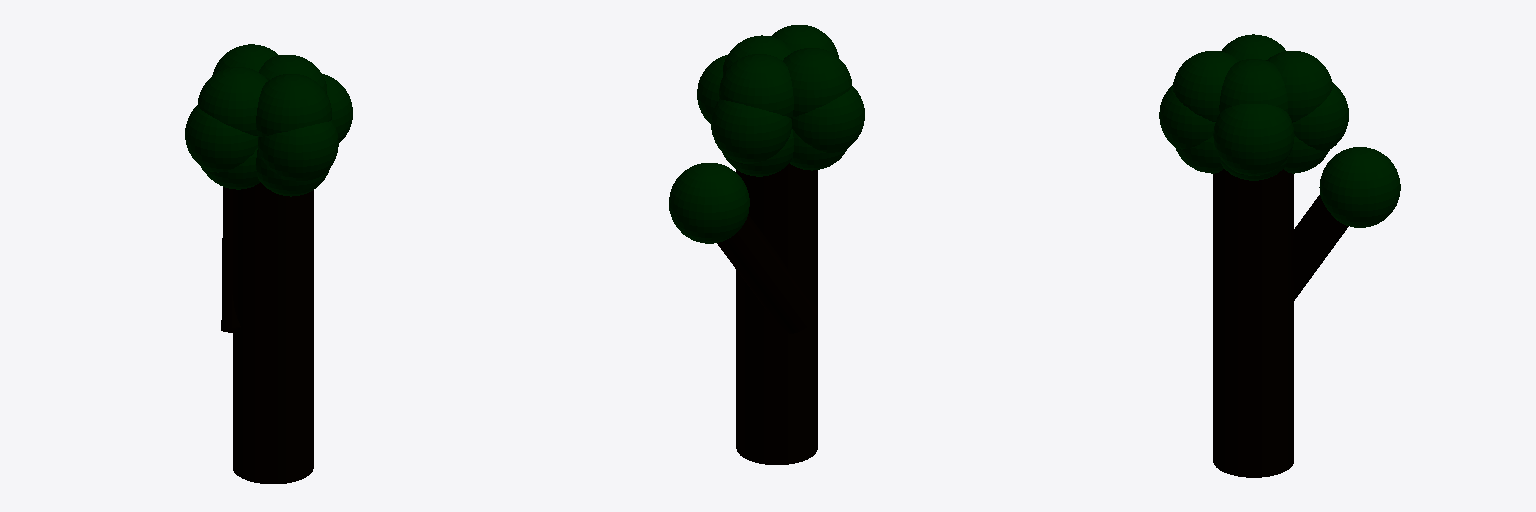
The model's file is tree_2.obj.
3 views of the same model, side by side, from view 1: azimuth 30°, elevation 25°; view 2: azimuth 150°, elevation 25°; view 3: azimuth 270°, elevation 25° (orthographic).
Parts seen in each view (by area): view 1: Cylinder, Sphere.011, Sphere.007, Sphere.012, Sphere.008, Cylinder.001, Sphere.013, Sphere.003, Sphere.009, Sphere.010, Sphere.002; view 2: Cylinder, Sphere, Cylinder.001, Sphere.006, Sphere.010, Sphere.012, Sphere.008, Sphere.011, Sphere.013, Sphere.009, Sphere.002, Sphere.004; view 3: Cylinder, Sphere, Sphere.009, Sphere.011, Cylinder.001, Sphere.010, Sphere.013, Sphere.006, Sphere.007, Sphere.012, Sphere.003, Sphere.004.
Part boxes in pixels (x1,y1,x2,y2): Cylinder: (233, 182, 313, 483); Sphere.011: (256, 74, 331, 136); Sphere.007: (258, 120, 338, 181); Sphere.012: (198, 67, 267, 135); Sphere.008: (185, 105, 257, 172); Cylinder.001: (221, 187, 240, 332); Sphere.013: (259, 55, 326, 93); Sphere.003: (256, 149, 329, 196); Sphere.009: (322, 74, 352, 142); Sphere.010: (212, 44, 278, 75); Sphere.002: (203, 148, 259, 189); Cylinder: (736, 163, 817, 464); Sphere: (669, 163, 749, 243); Cylinder.001: (717, 215, 816, 333); Sphere.006: (711, 99, 791, 163); Sphere.010: (719, 54, 793, 117); Sphere.012: (783, 48, 851, 116); Sphere.008: (791, 86, 864, 153); Sphere.011: (771, 25, 838, 56); Sphere.013: (723, 35, 791, 75); Sphere.009: (697, 55, 727, 123); Sphere.002: (790, 130, 846, 170); Sphere.004: (722, 129, 793, 176); Cylinder: (1213, 169, 1293, 477); Sphere: (1319, 147, 1400, 227); Sphere.009: (1213, 104, 1294, 175); Sphere.011: (1173, 51, 1239, 121); Cylinder.001: (1292, 195, 1348, 300); Sphere.010: (1266, 51, 1332, 122); Sphere.013: (1219, 59, 1287, 112); Sphere.006: (1293, 82, 1348, 150); Sphere.007: (1159, 85, 1215, 149); Sphere.012: (1221, 34, 1285, 60); Sphere.003: (1176, 136, 1223, 173); Sphere.004: (1284, 136, 1329, 173).
Bounding box in the file's own units: 21.89 × 53.83 × 29.09.